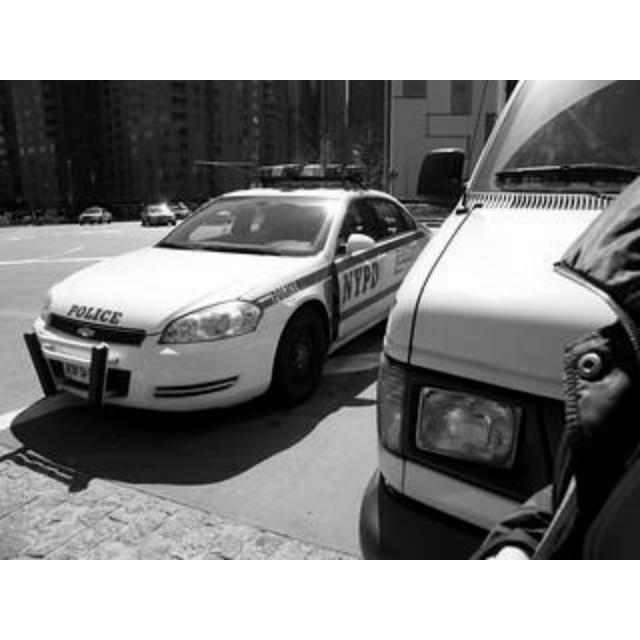fender-dent: (240, 276, 342, 318)
